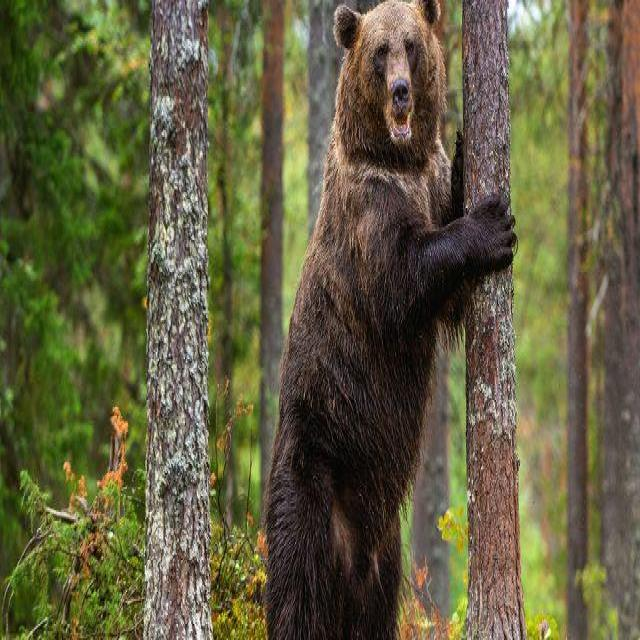Bear: (262, 0, 515, 640)
